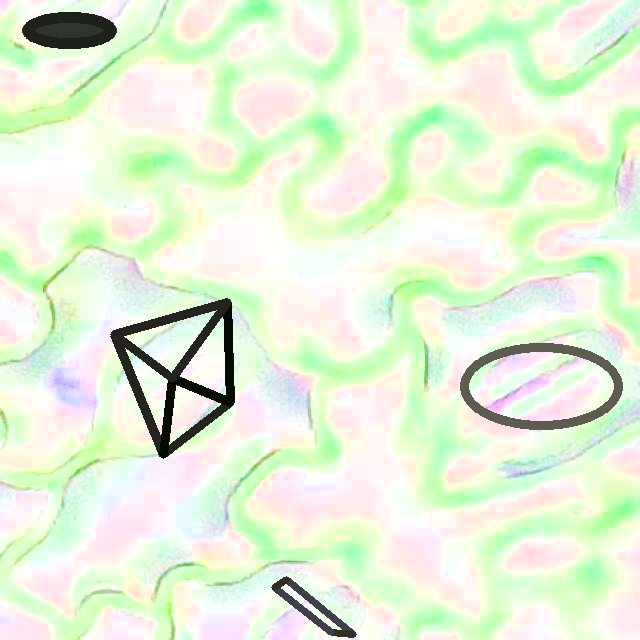open: (111, 299, 234, 457), (458, 342, 624, 429), (271, 576, 356, 635), (22, 12, 116, 47)
